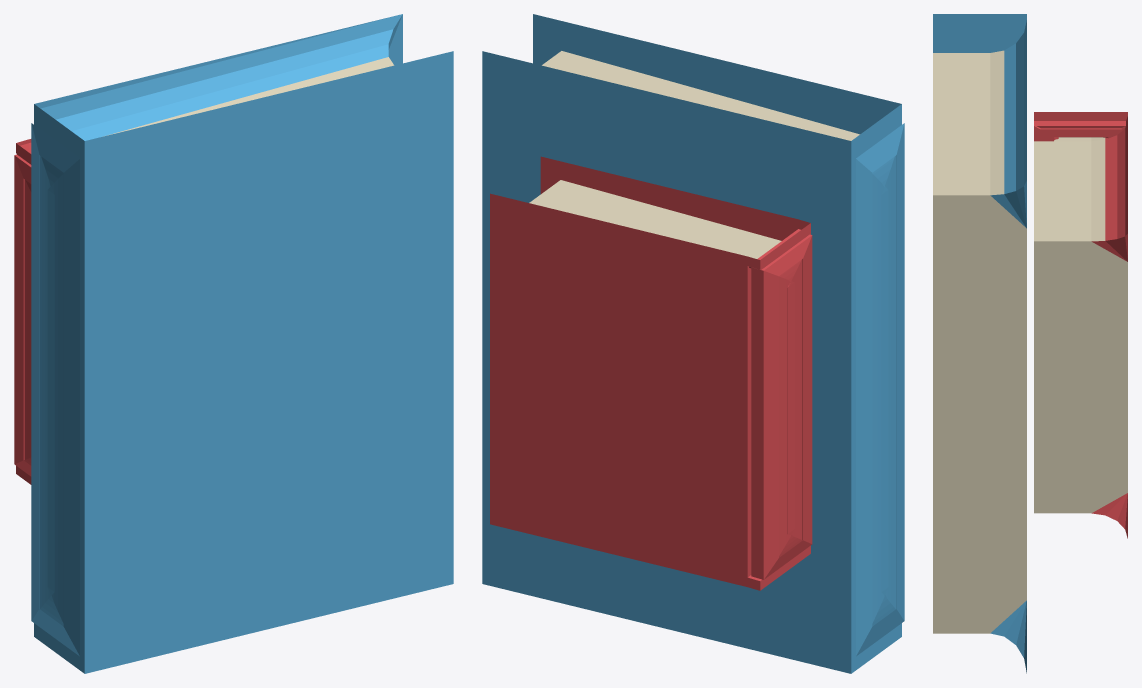
Rendered from libos_pila.fbx.
3 views of the same model, side by side, from view 1: azimuth 30°, elevation 25°; view 2: azimuth 150°, elevation 25°; view 3: azimuth 270°, elevation 25° (orthographic). The views are drawn at different scales.
Parts seen in each view (by area): view 1: Hojas.013; view 2: Hojas.013; view 3: Hojas.013.
Part boxes in pixels (bbox=[...]): Hojas.013: bbox=[14, 14, 453, 673]; Hojas.013: bbox=[482, 14, 904, 673]; Hojas.013: bbox=[933, 14, 1127, 673].
Bounding box in the file's own units: 0.2148 × 0.29 × 0.1038.
